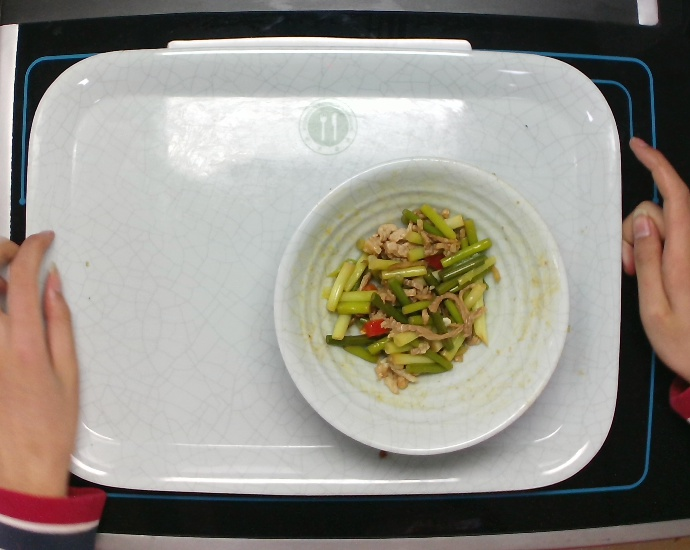JYsf-Xiao_Tang_Wan: (259, 158, 573, 464)
